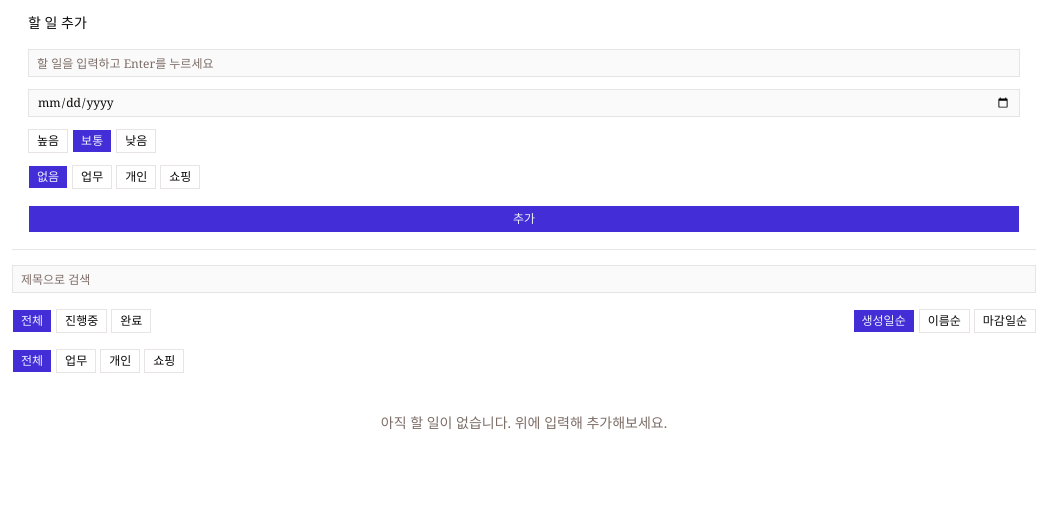
Todo 검색 › 검색어를 지우면 전체 목록이 복원된다
Step 1. Type "회의 준비" into the field named "새 할 일" → (524, 63), box left=28, top=49, right=1020, bottom=77
Then press Enter
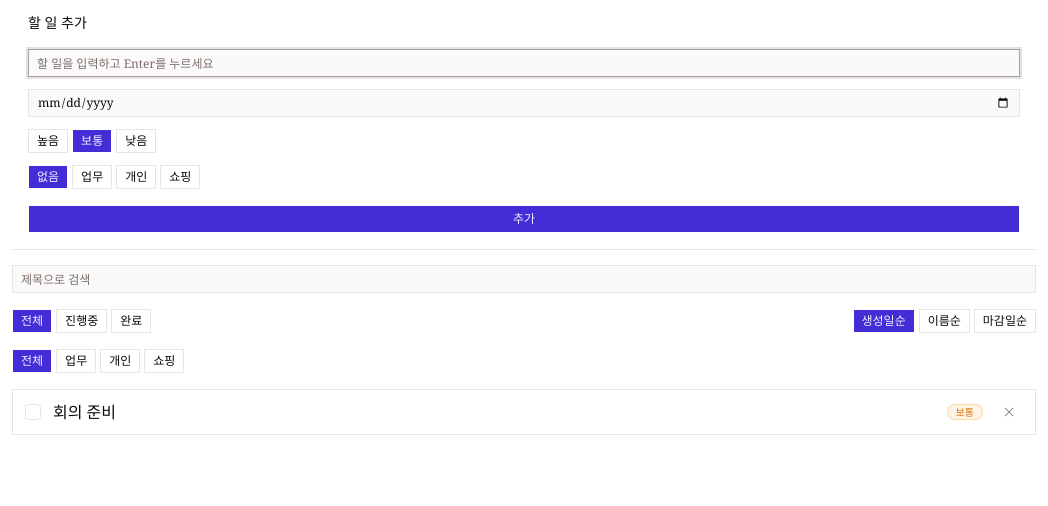
Step 2. Type "장보기" into the field named "새 할 일" → (524, 63), box left=28, top=49, right=1020, bottom=77
Then press Enter
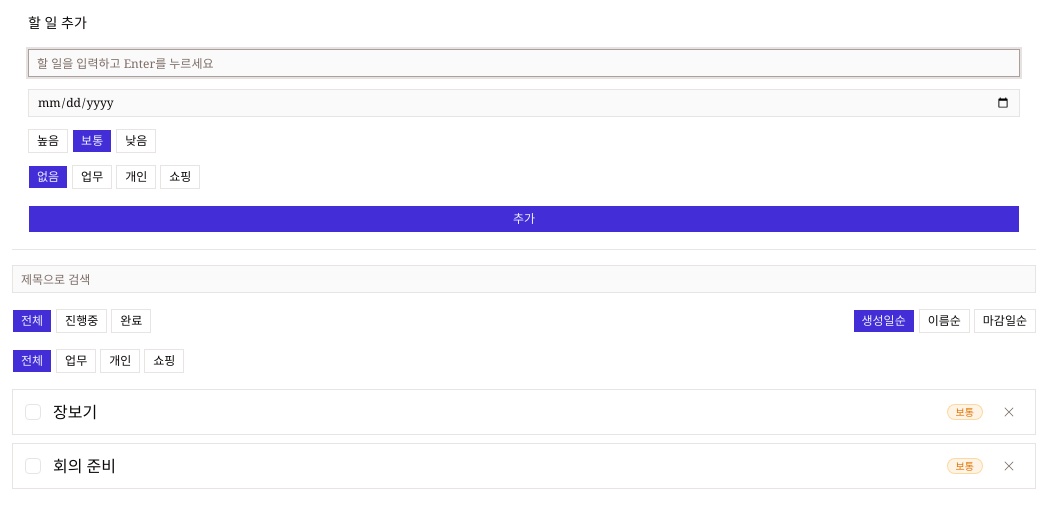
Now the text "장보기" is shown, box left=53, top=401, right=97, bottom=423
Step 3. Type "회의" into the search field labelled "검색" → (524, 279), box left=12, top=265, right=1036, bottom=293
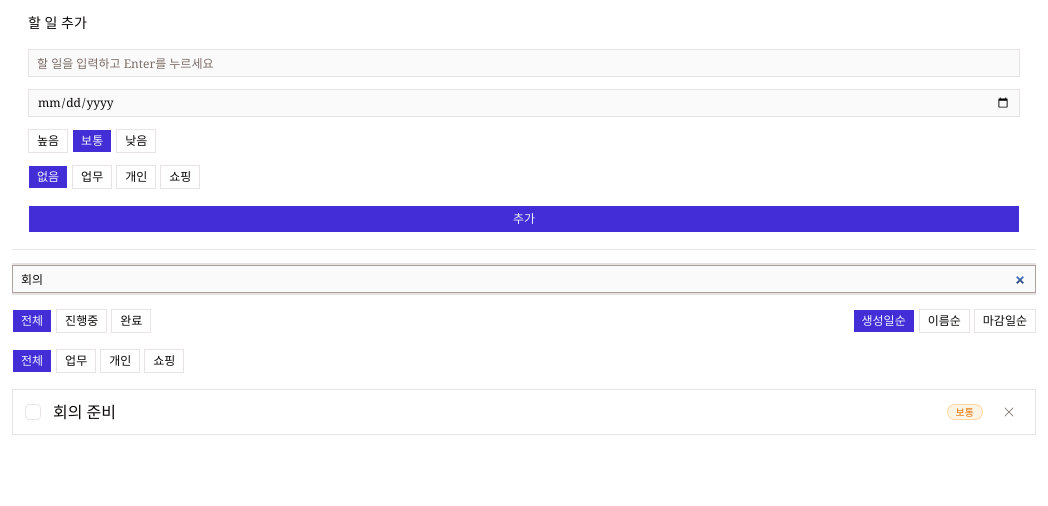
Now the number of list items is 1, box left=12, top=389, right=1036, bottom=435
Step 4. Clear the search field named "검색" → (524, 279), box left=12, top=265, right=1036, bottom=293
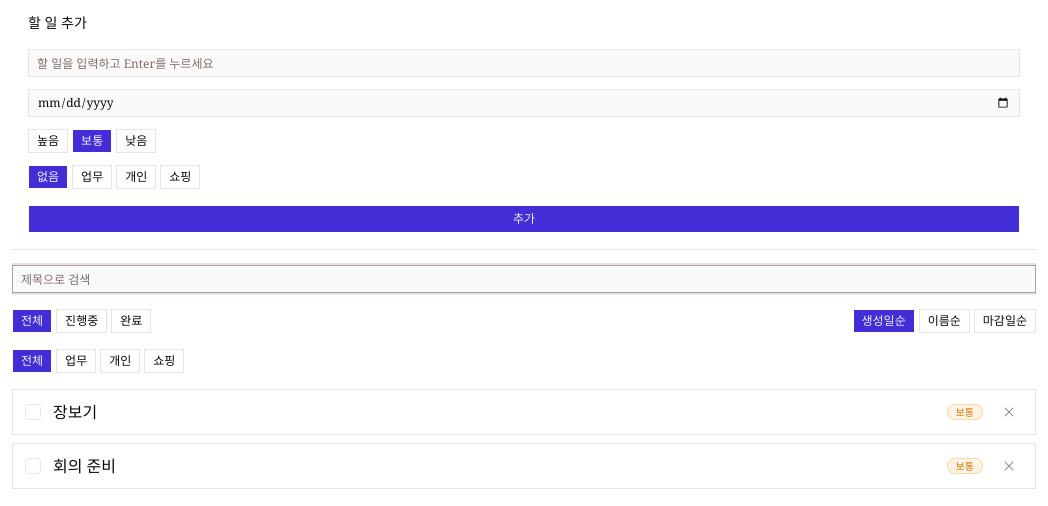
Now the number of list items is 2, box left=12, top=389, right=1036, bottom=435; left=12, top=443, right=1036, bottom=489
